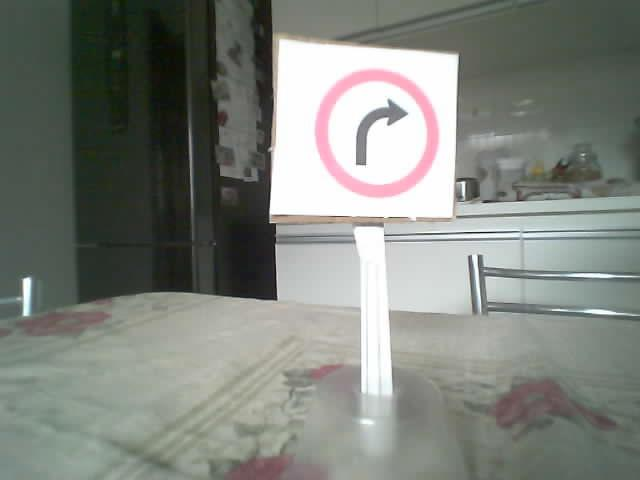R-25b_direita: (313, 66, 439, 199)
